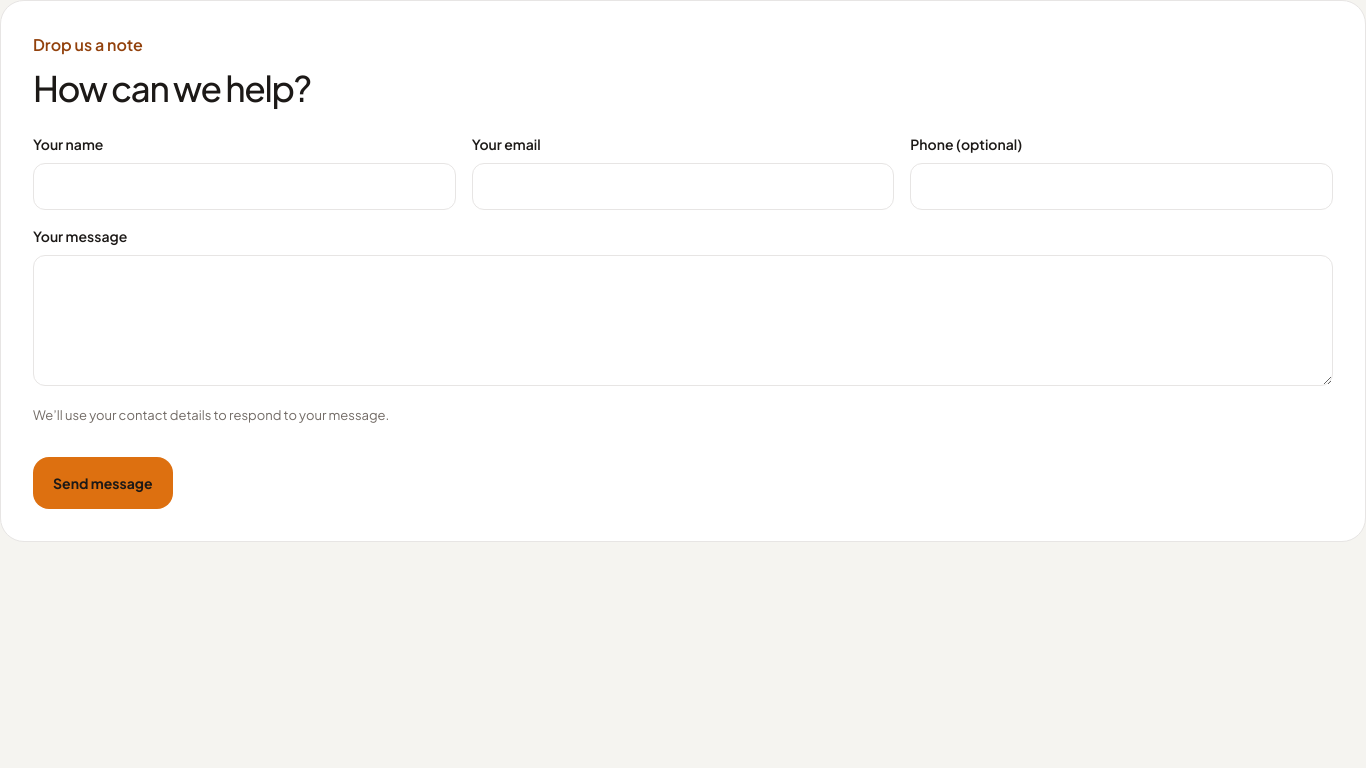
Scenario: keeps the message after a delivery failure and clears it after success
Step 1. Type "Sam" into the field labelled "Your name" → (244, 186), box 33,163 -> 456,210
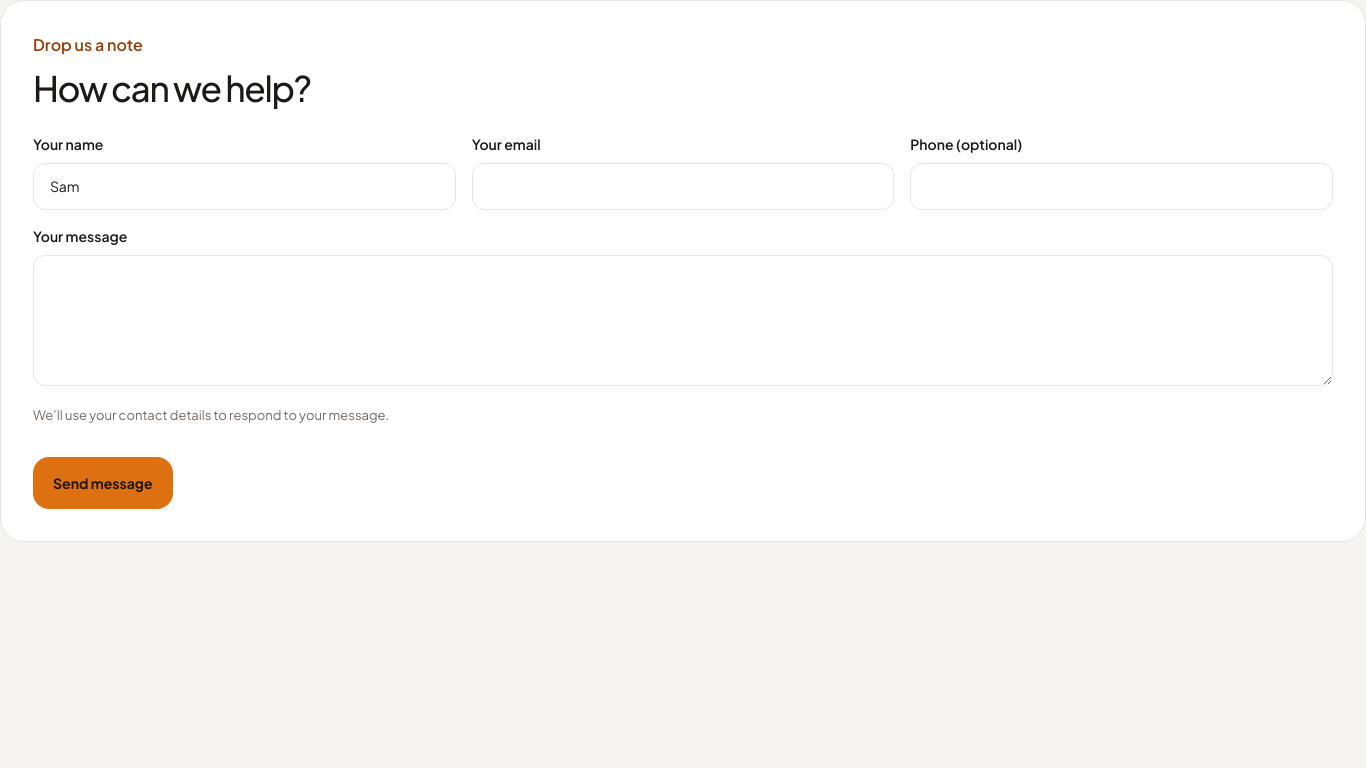
Step 2. Type "sam@example.com" into the field labelled "Your email" → (683, 186), box 472,163 -> 894,210
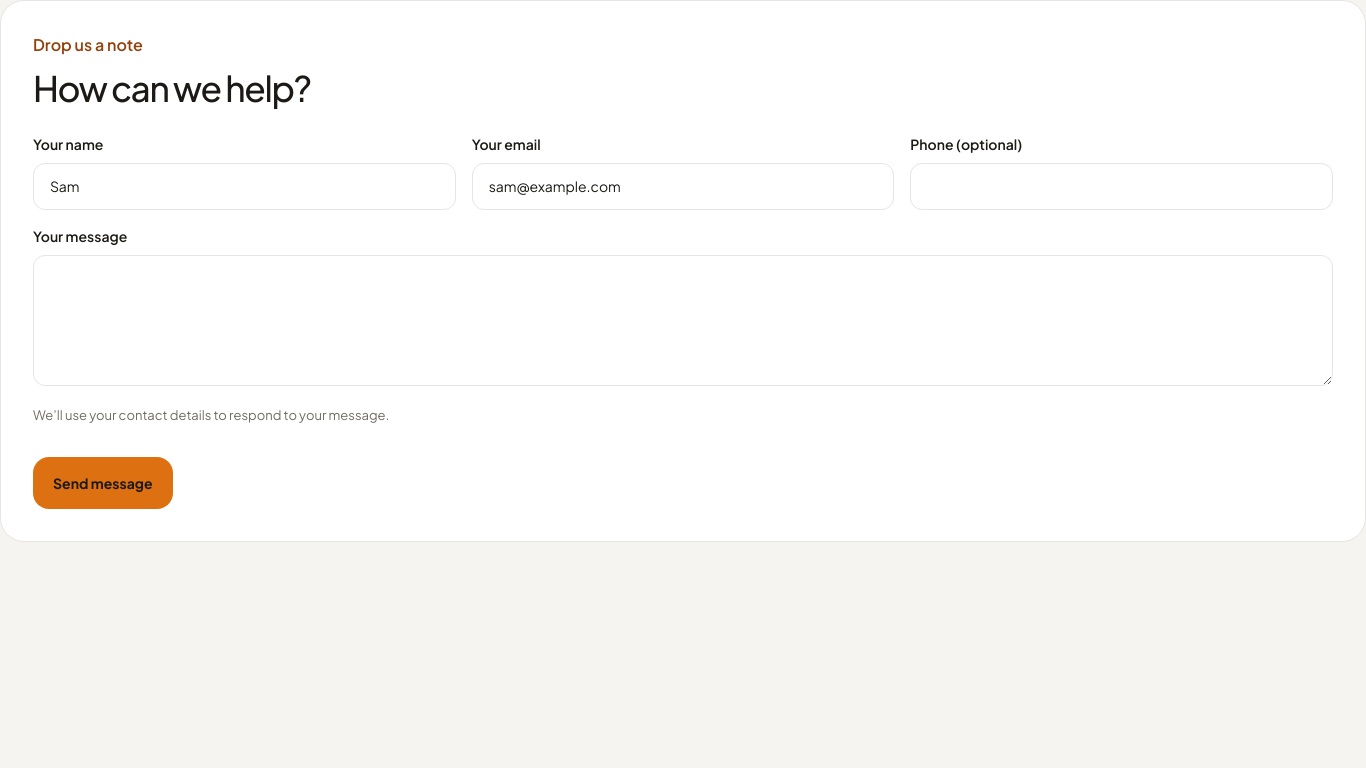
Step 3. Type "Can I bring my dog?" into the text box labelled "Your message" → (683, 320), box 33,255 -> 1333,386
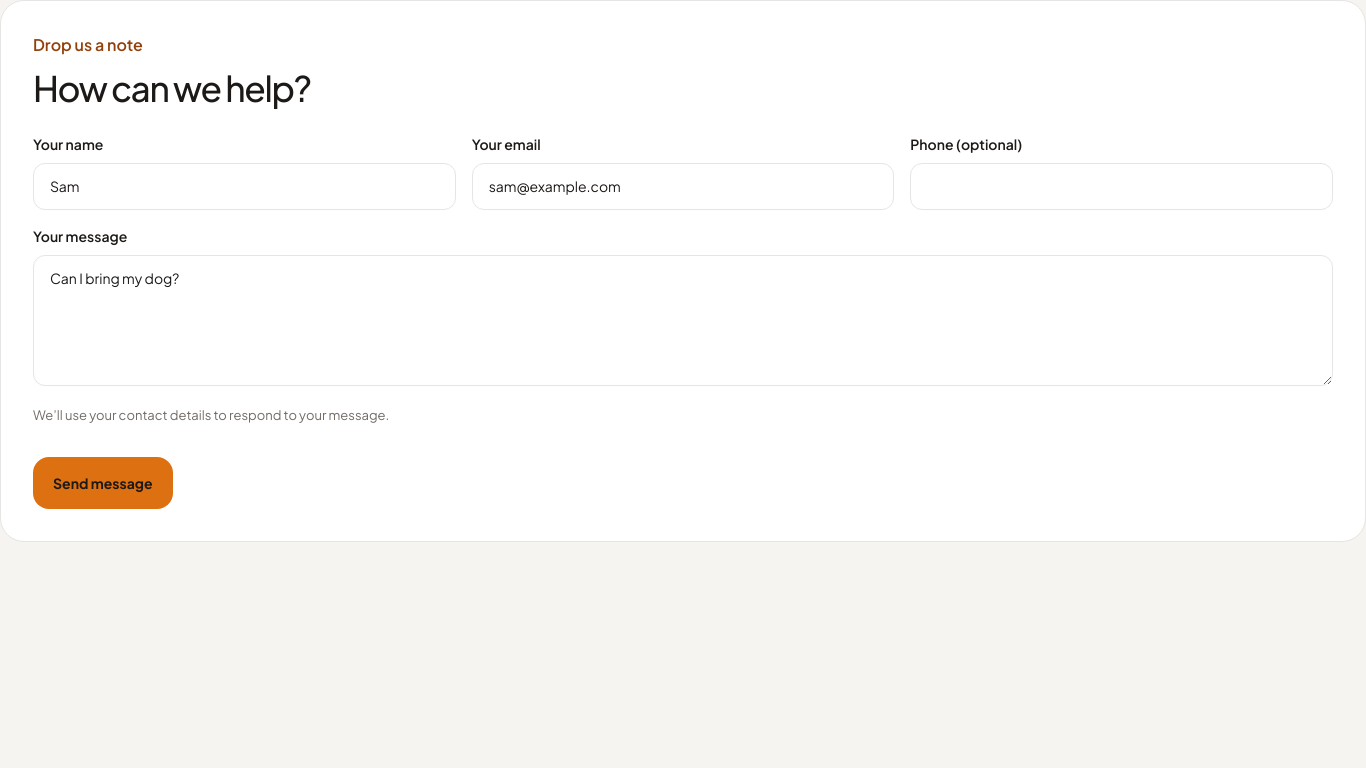
Step 4. Submit the form named "Send message", box 33,134 -> 1333,509
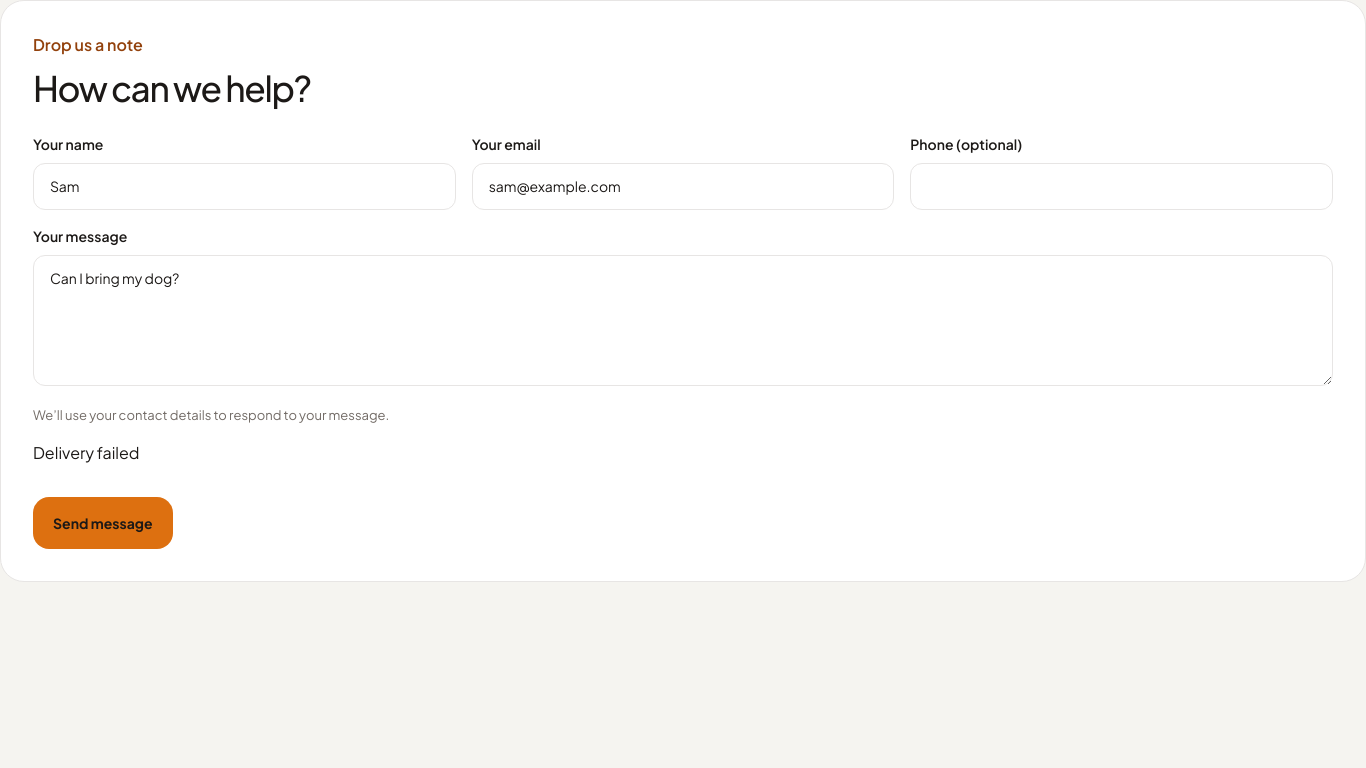
Check: the message reads "Delivery failed", box 33,442 -> 140,463
Step 5. Submit the form named "Send message", box 33,134 -> 1333,549
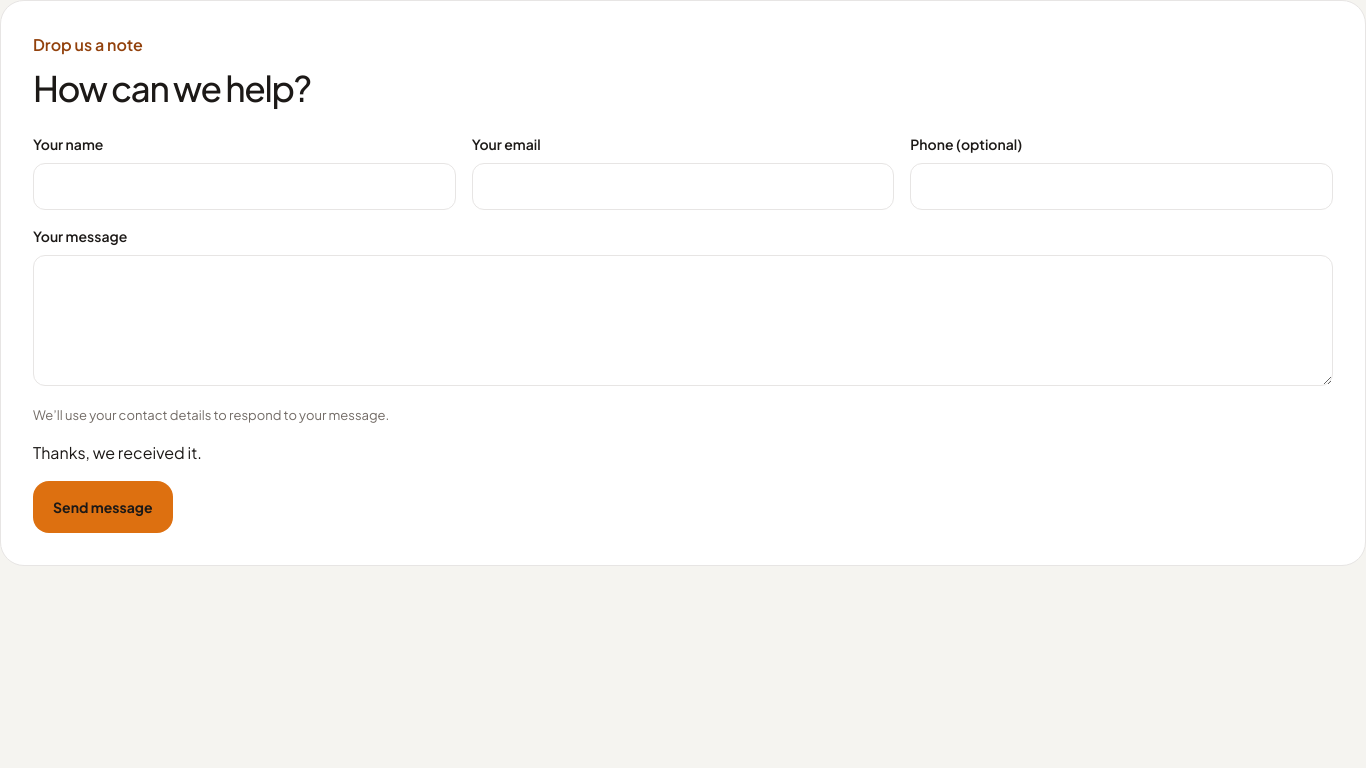
Check: the message reads "Thanks, we received it.", box 33,442 -> 202,463
Check: the text box labelled "Your message" is empty, box 33,255 -> 1333,386
